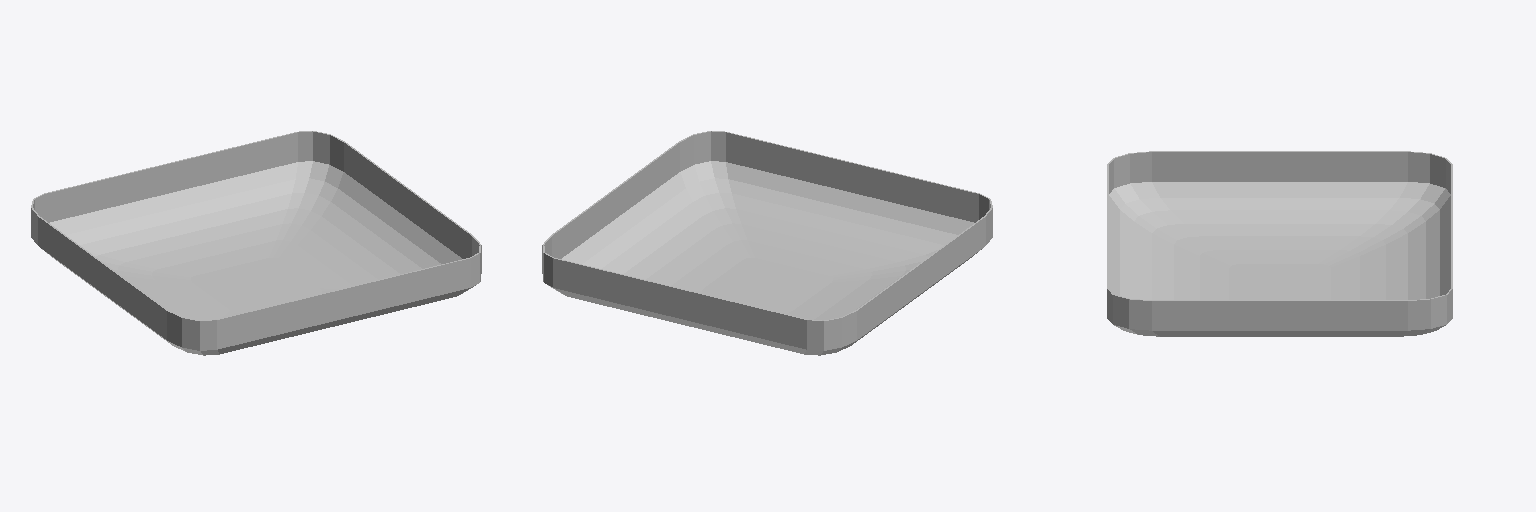
File: ScreenGlass.obj
3 views of the same model, side by side, from view 1: azimuth 30°, elevation 25°; view 2: azimuth 150°, elevation 25°; view 3: azimuth 270°, elevation 25° (orthographic).
Parts seen in each view (by area): view 1: Cube.001; view 2: Cube.001; view 3: Cube.001.
Boxes of the visible parts, <box> form: Cube.001: <box>31,131,481,355</box>; Cube.001: <box>542,131,992,355</box>; Cube.001: <box>1107,151,1452,336</box>.
Bounding box in the file's own units: 0.2029 × 0.0376 × 0.1981.